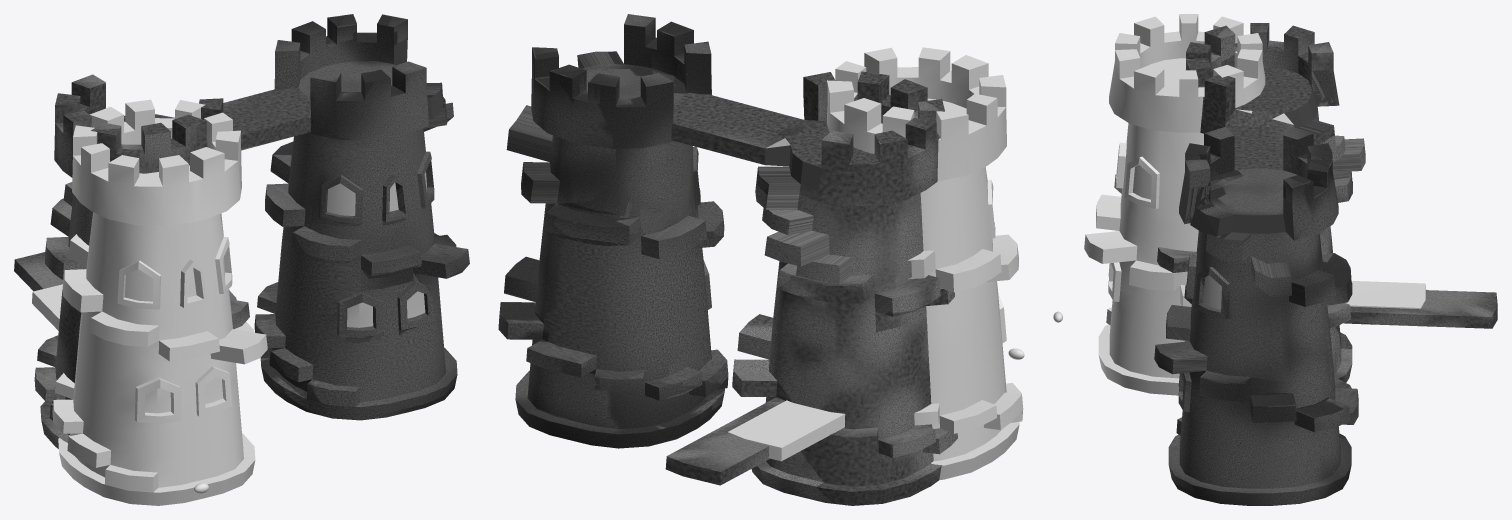
Rendered from DoubleTower.fbx.
The picture shows the model from 3 angles, left to right: view 1: azimuth 30°, elevation 25°; view 2: azimuth 150°, elevation 25°; view 3: azimuth 270°, elevation 25°; orthographic projection. The views are drawn at different scales.
Parts seen in each view (by area): view 1: Cube.002, Cube.010, Cube.001; view 2: Cube.002, Cube.001, Cube.010; view 3: Cube.002, Cube.010, Cube.001.
Boxes of the visible parts, x1,y1,x2,y2 form: Cube.002: (254, 14, 469, 420); Cube.010: (32, 99, 267, 505); Cube.001: (14, 74, 310, 448); Cube.002: (498, 14, 728, 448); Cube.001: (665, 71, 957, 505); Cube.010: (727, 47, 1023, 479); Cube.002: (1154, 127, 1358, 505); Cube.010: (1084, 14, 1426, 395); Cube.001: (1157, 23, 1497, 382).
Bounding box in the file's own units: 1085 × 821 × 1056.
